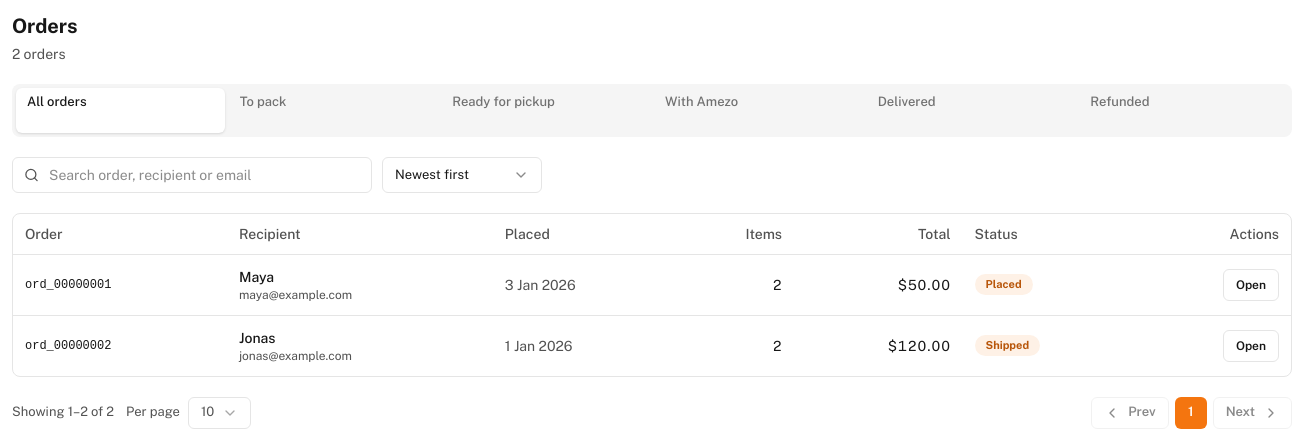
Test case: SellerOrders › still lists the orders when the counts fail
Expected: the text "Maya" is shown, [239,268,274,284]
Expected: the text "2 orders" is shown, [12,46,66,62]
Click the tab "With Amezo" at (758, 110), box [654,88,863,133]
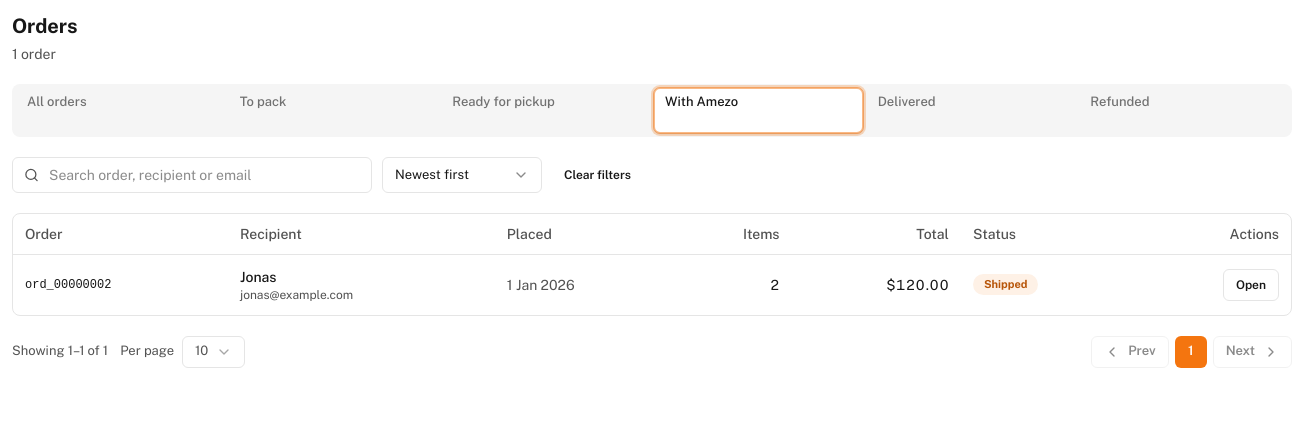
Expected: the text "Jonas" is shown, [240,268,276,284]
Now the text "Maya" is gone
